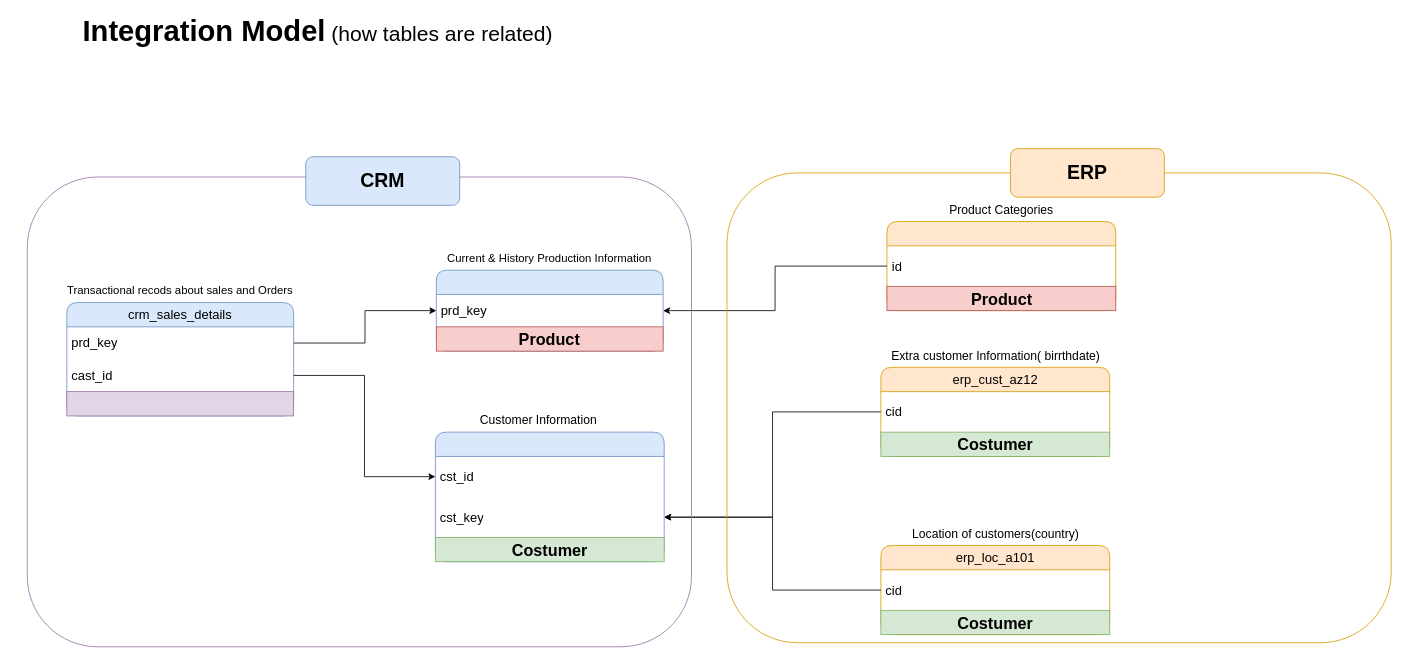
Some shapes in this 1405 by 661 pixel diagram are drawn without their labels. Here are the shapes that lost their labels. From the top down, the box of each, then its label:
(886, 221, 1116, 311): erp_px_cat_g1v2
(436, 269, 663, 351): crm_prd_info
(66, 391, 294, 416): Sales
(435, 431, 664, 562): crm_cust_info
